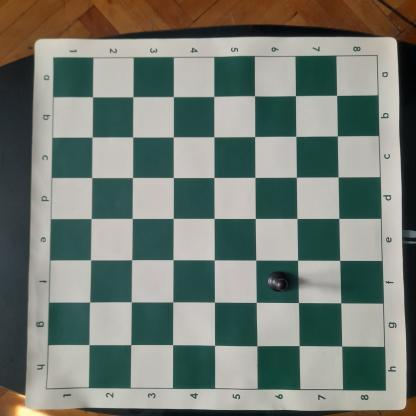black-pawn: (268, 271, 290, 294)
